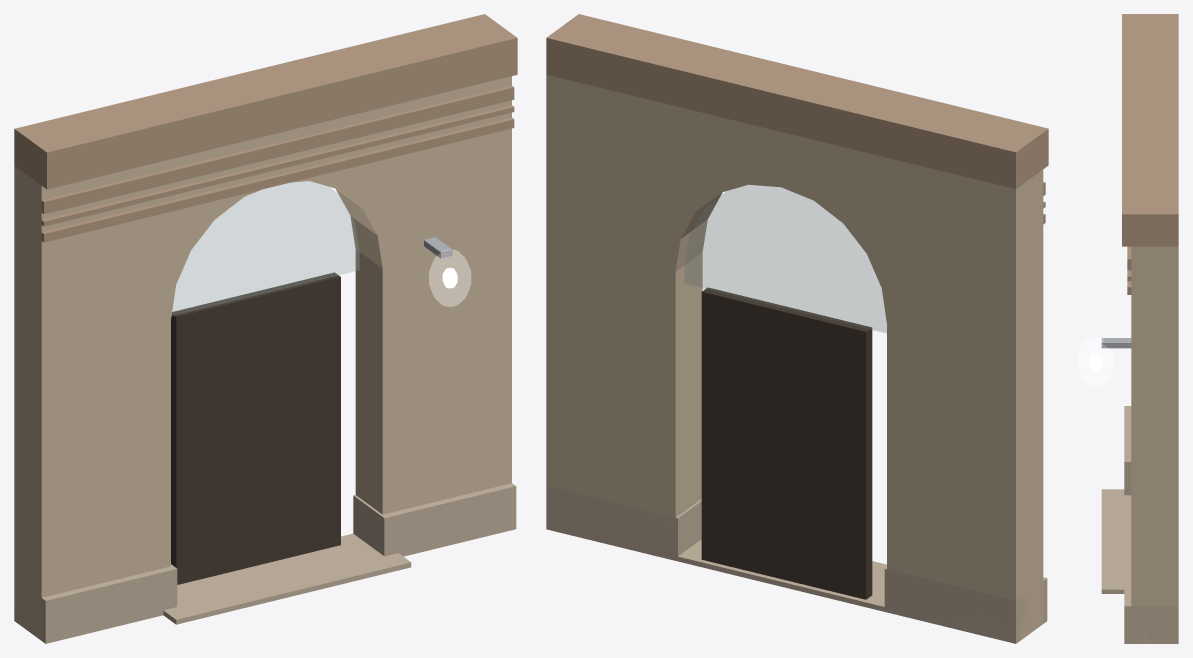
Rendered from city_facade_door.glb.
3 renders of one model, left to right at view 1: azimuth 30°, elevation 25°; view 2: azimuth 150°, elevation 25°; view 3: azimuth 270°, elevation 25°, orthographic. The views are drawn at different scales.
Parts seen in each view (by area): view 1: CityFacadeDoor_Wall, CityFacadeDoor_DoorFrame, CityFacadeDoor_Band, CityFacadeDoor_Fanlight, CityFacadeDoor_Threshold, CityFacadeDoor_Plinth.001, CityFacadeDoor_Strata2, CityFacadeDoor_Plinth, CityFacadeDoor_Strata0, CityFacadeDoor_Strata1, CityFacadeDoor_Lantern_Halo; view 2: CityFacadeDoor_Wall, CityFacadeDoor_DoorFrame, CityFacadeDoor_Band, CityFacadeDoor_Fanlight, CityFacadeDoor_Plinth.001, CityFacadeDoor_Plinth, CityFacadeDoor_Threshold; view 3: CityFacadeDoor_Wall, CityFacadeDoor_Band, CityFacadeDoor_Threshold, CityFacadeDoor_Plinth.001, CityFacadeDoor_Lantern_Halo, CityFacadeDoor_Plinth, CityFacadeDoor_LanternArm, CityFacadeDoor_Lantern_Core.
Boxes of the visible parts, left/top/right/bottom form: CityFacadeDoor_Wall: left=14, top=76, right=511, bottom=640; CityFacadeDoor_DoorFrame: left=171, top=272, right=340, bottom=584; CityFacadeDoor_Band: left=14, top=14, right=517, bottom=189; CityFacadeDoor_Fanlight: left=172, top=181, right=359, bottom=315; CityFacadeDoor_Threshold: left=163, top=533, right=411, bottom=624; CityFacadeDoor_Plinth.001: left=353, top=483, right=516, bottom=556; CityFacadeDoor_Strata2: left=41, top=85, right=514, bottom=214; CityFacadeDoor_Plinth: left=14, top=564, right=177, bottom=643; CityFacadeDoor_Strata0: left=41, top=117, right=514, bottom=242; CityFacadeDoor_Strata1: left=41, top=105, right=514, bottom=226; CityFacadeDoor_Lantern_Halo: left=429, top=249, right=470, bottom=306; CityFacadeDoor_Wall: left=546, top=74, right=1043, bottom=643; CityFacadeDoor_DoorFrame: left=701, top=287, right=872, bottom=599; CityFacadeDoor_Band: left=546, top=14, right=1048, bottom=188; CityFacadeDoor_Fanlight: left=684, top=185, right=886, bottom=333; CityFacadeDoor_Plinth.001: left=546, top=486, right=701, bottom=561; CityFacadeDoor_Plinth: left=884, top=567, right=1047, bottom=643; CityFacadeDoor_Threshold: left=676, top=539, right=898, bottom=615; CityFacadeDoor_Wall: left=1131, top=246, right=1178, bottom=643; CityFacadeDoor_Band: left=1122, top=14, right=1178, bottom=246; CityFacadeDoor_Threshold: left=1101, top=489, right=1131, bottom=593; CityFacadeDoor_Plinth.001: left=1124, top=550, right=1178, bottom=643; CityFacadeDoor_Lantern_Halo: left=1077, top=337, right=1113, bottom=386; CityFacadeDoor_Plinth: left=1124, top=406, right=1131, bottom=495; CityFacadeDoor_LanternArm: left=1101, top=338, right=1131, bottom=348; CityFacadeDoor_Lantern_Core: left=1089, top=353, right=1102, bottom=370.
Size of the model in its own units: 4 by 4 by 0.856.
